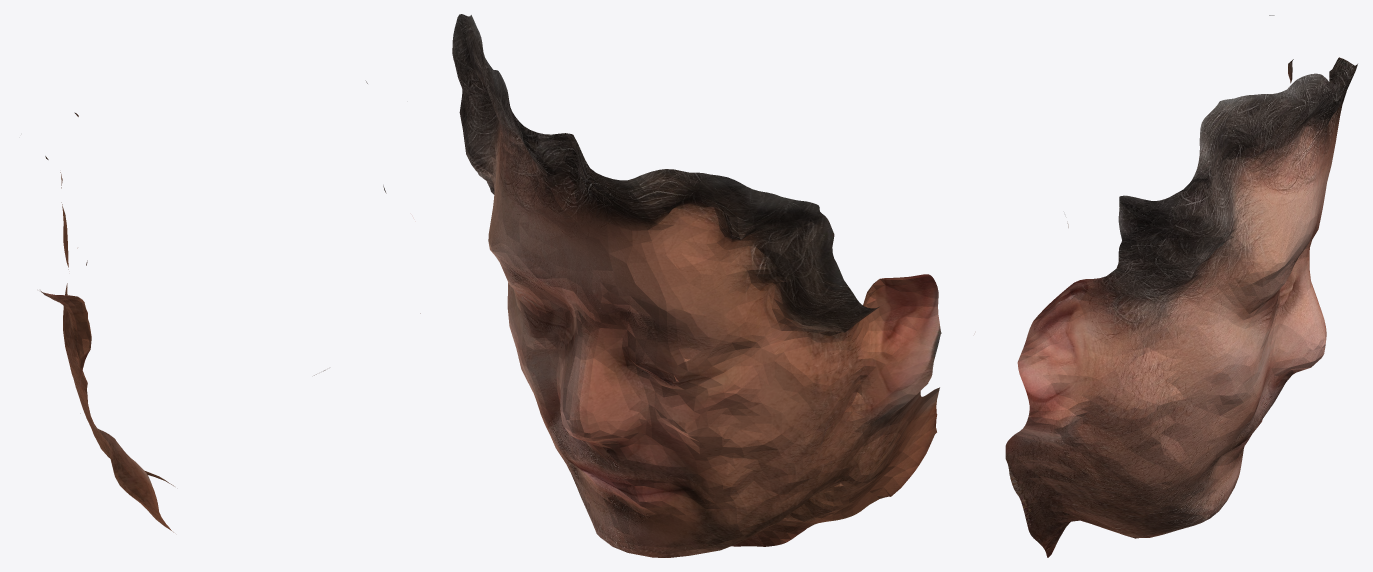
File: BUSTO_5.glb
3 views of the same model, side by side, from view 1: azimuth 30°, elevation 25°; view 2: azimuth 150°, elevation 25°; view 3: azimuth 270°, elevation 25° (orthographic). The views are drawn at different scales.
Visible parts, largest first — view 1: Mesh_0.011; view 2: Mesh_0.011; view 3: Mesh_0.011.
Boxes of the visible parts, x1,y1,x2,y2 form: Mesh_0.011: (40,80,420,532); Mesh_0.011: (452,14,941,557); Mesh_0.011: (1005,15,1357,557).
Size of the model in its own units: 3.21 by 3.85 by 2.56.
1 material, 1 textured.
